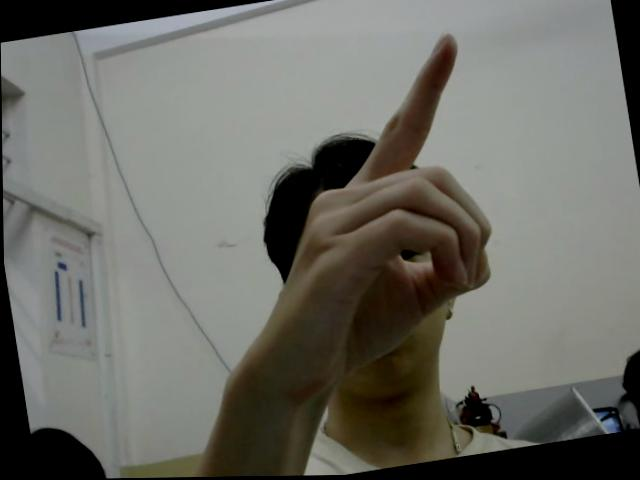D: (209, 28, 512, 399)
